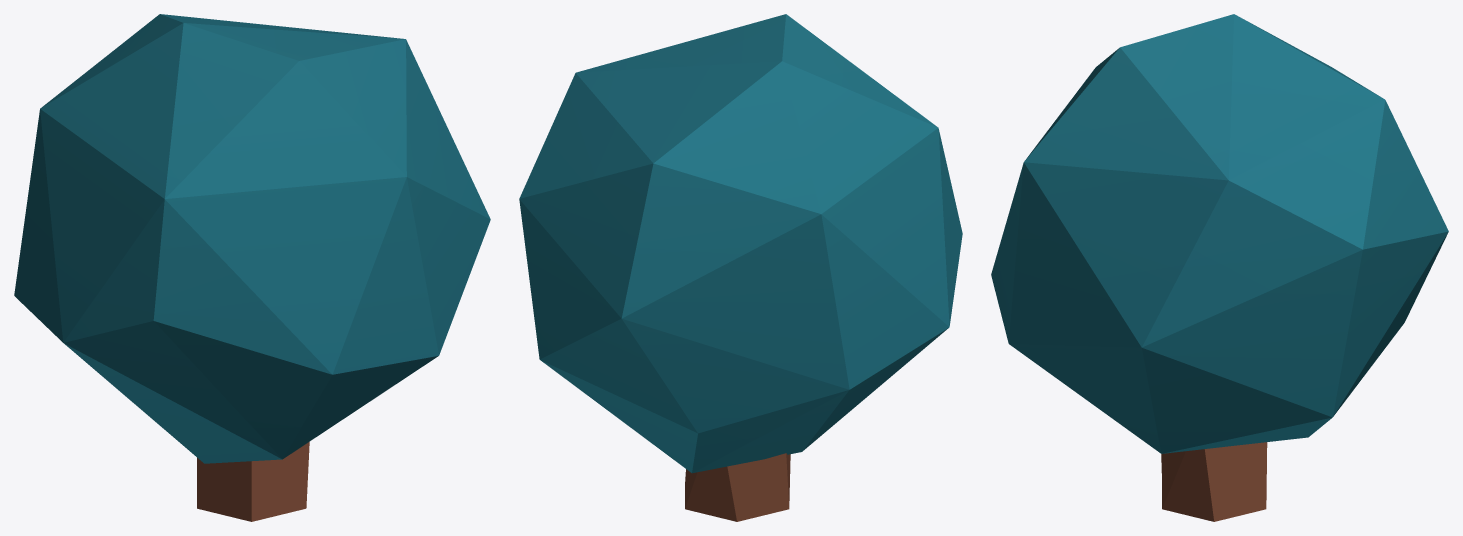
The model's file is Bush_3_gradient_blue_vc.fbx.
The picture shows the model from 3 angles, left to right: view 1: azimuth 30°, elevation 25°; view 2: azimuth 150°, elevation 25°; view 3: azimuth 270°, elevation 25°; orthographic projection. The views are drawn at different scales.
Parts seen in each view (by area): view 1: Bush_3_gradient_blue_vc; view 2: Bush_3_gradient_blue_vc; view 3: Bush_3_gradient_blue_vc.
Boxes of the visible parts, x1=… form: Bush_3_gradient_blue_vc: x1=14, y1=14, x2=490, y2=521; Bush_3_gradient_blue_vc: x1=519, y1=14, x2=962, y2=521; Bush_3_gradient_blue_vc: x1=991, y1=14, x2=1448, y2=521.
Bounding box in the file's own units: 35 × 39.36 × 35.84.
